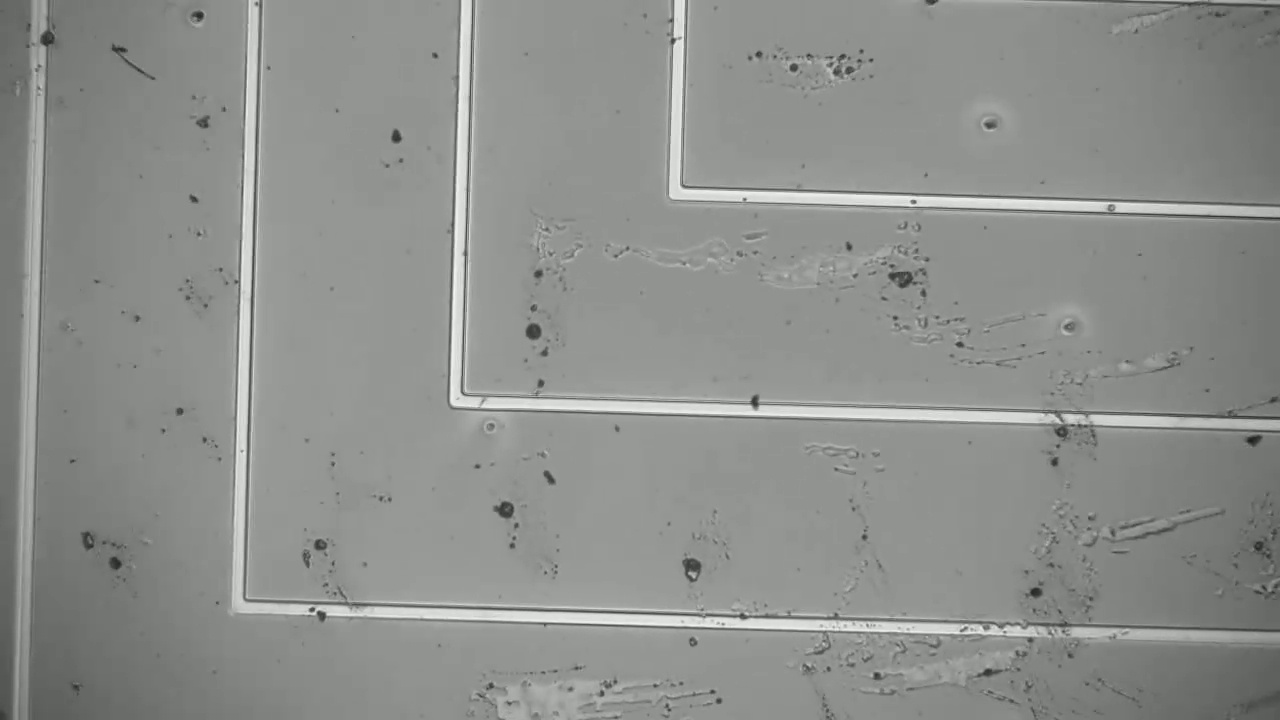stains_enbedded: (19, 18, 61, 56), (737, 391, 772, 429), (306, 600, 333, 630), (1102, 199, 1116, 217)
